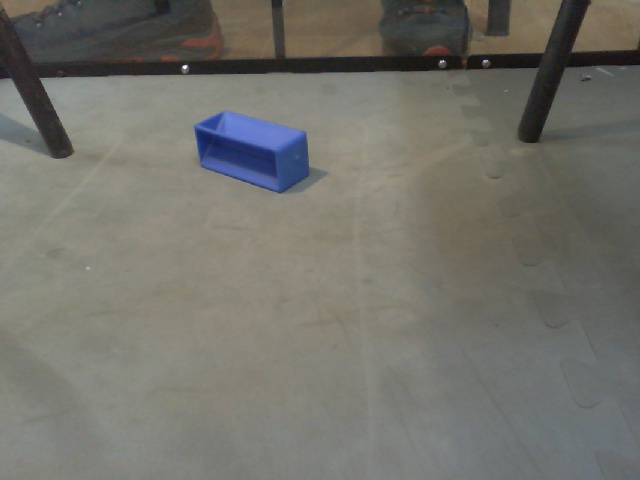BlueSample: (190, 107, 316, 201)
